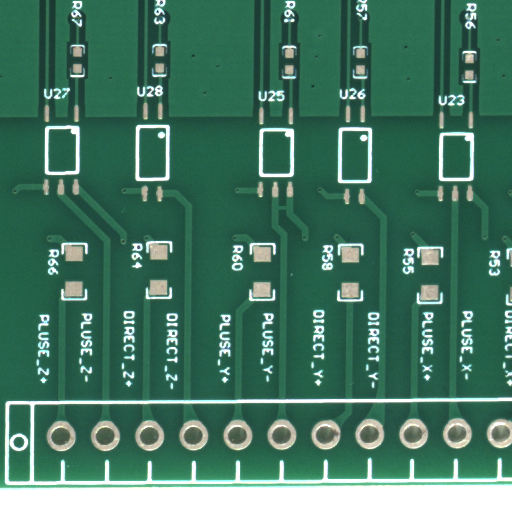Short: (282, 207, 295, 216)
